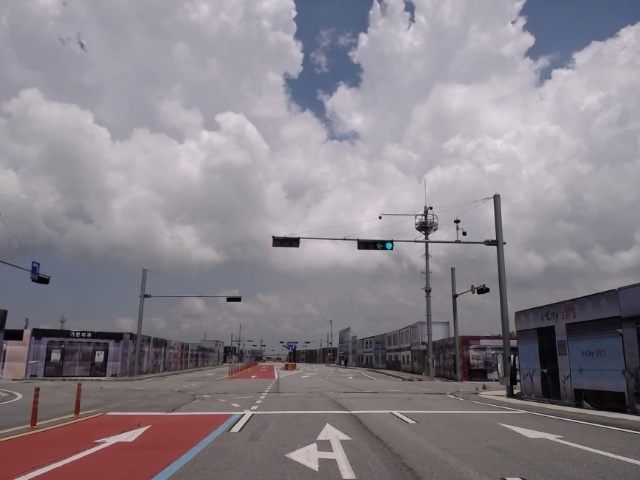all_green_4: (355, 240, 394, 251)
